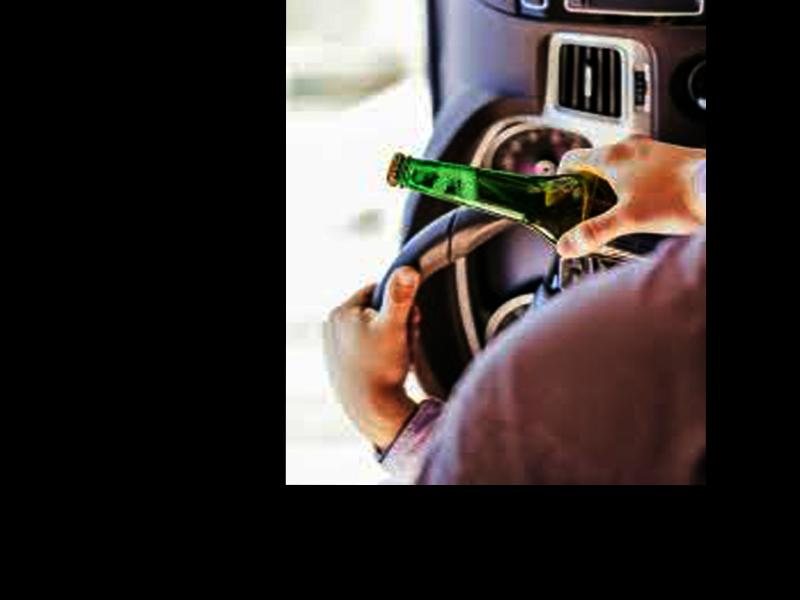Beer: (384, 151, 692, 267)
